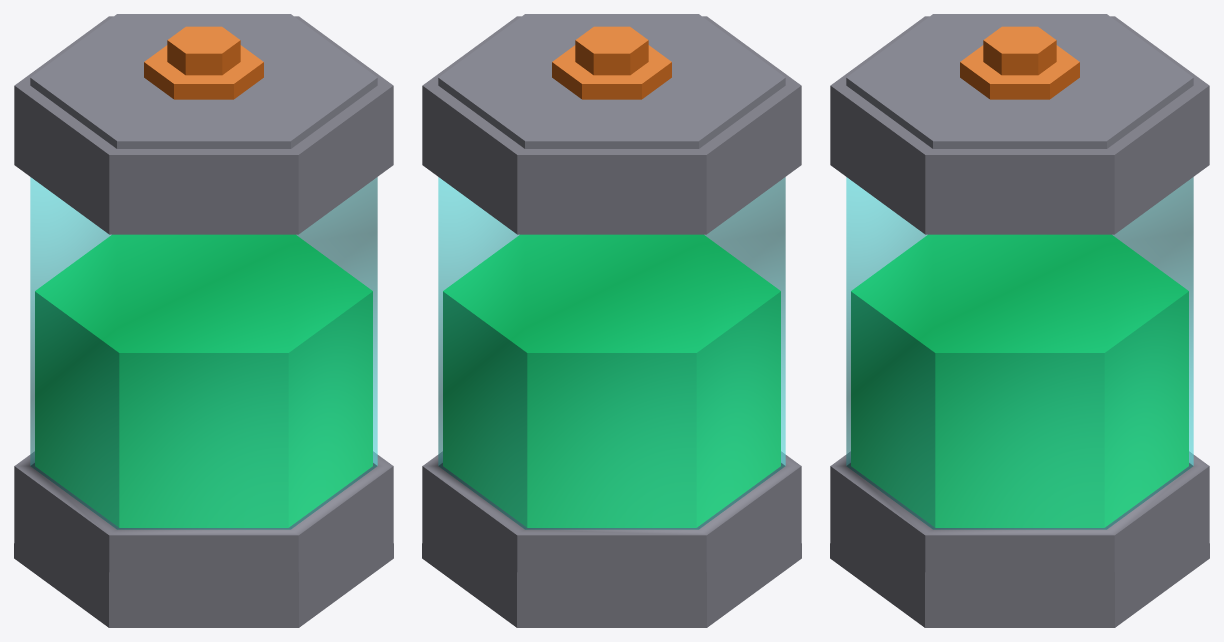
File: PlasmaGreen_01.glb
The picture shows the model from 3 angles, left to right: view 1: azimuth 30°, elevation 25°; view 2: azimuth 150°, elevation 25°; view 3: azimuth 270°, elevation 25°; orthographic projection.
Visible parts, largest first — view 1: PlasmaGreen_01; view 2: PlasmaGreen_01; view 3: PlasmaGreen_01.
Part boxes in pixels (x1,y1,x2,y2): PlasmaGreen_01: (14, 14, 393, 627); PlasmaGreen_01: (422, 14, 801, 627); PlasmaGreen_01: (830, 14, 1209, 627).
Size of what is drawn, in the model's own units: 0.2214 by 0.385 by 0.2557.
Materials: 2 (2 with a texture image).
